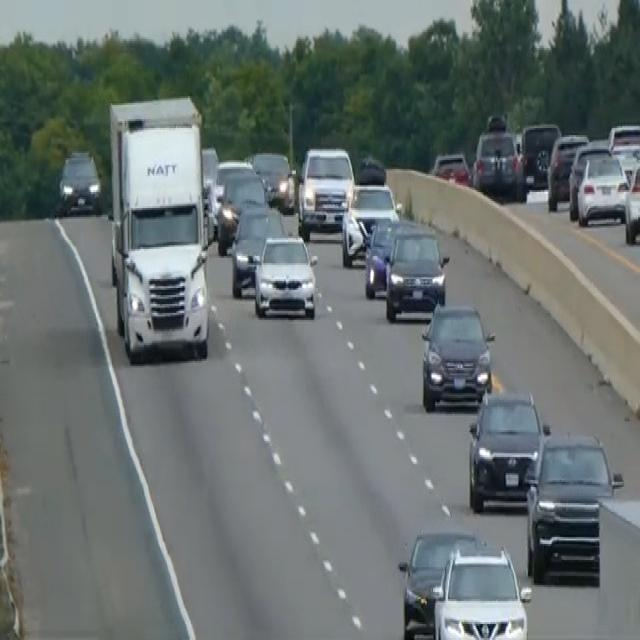car: (524, 429, 623, 583), (466, 386, 548, 512), (433, 540, 530, 638), (397, 524, 480, 638), (420, 298, 495, 411), (384, 220, 449, 322), (252, 231, 318, 320), (296, 142, 355, 238), (229, 203, 286, 297), (340, 180, 399, 266), (215, 169, 267, 252), (575, 149, 629, 226), (545, 132, 589, 210), (567, 137, 611, 215), (473, 126, 520, 196), (363, 215, 400, 299), (58, 148, 102, 215), (250, 148, 295, 212), (519, 119, 560, 189), (210, 156, 253, 222), (431, 148, 470, 186), (623, 155, 639, 245), (607, 119, 639, 151)
lorry: (107, 94, 212, 363)
